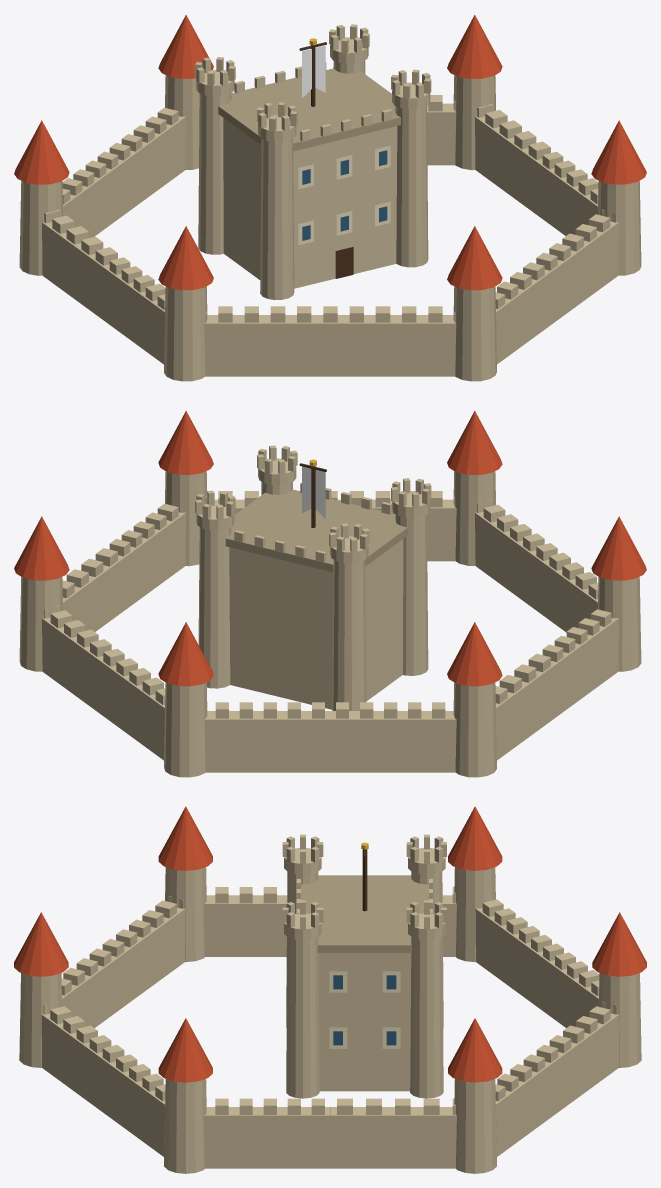
Rendered from building_castle.fbx.
The picture shows the model from 3 angles, top to bottom: view 1: azimuth 30°, elevation 25°; view 2: azimuth 150°, elevation 25°; view 3: azimuth 270°, elevation 25°; orthographic projection.
Parts seen in each view (by area): view 1: building_castle; view 2: building_castle; view 3: building_castle.
Part boxes in pixels (box(x1,y1,x2,y2)): building_castle: box(14, 15, 646, 381); building_castle: box(14, 411, 646, 777); building_castle: box(14, 806, 646, 1173).
Size of the model in its own units: 162 by 68.7 by 184.
